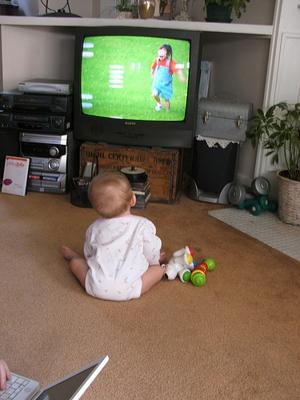person: (62, 167, 165, 301)
